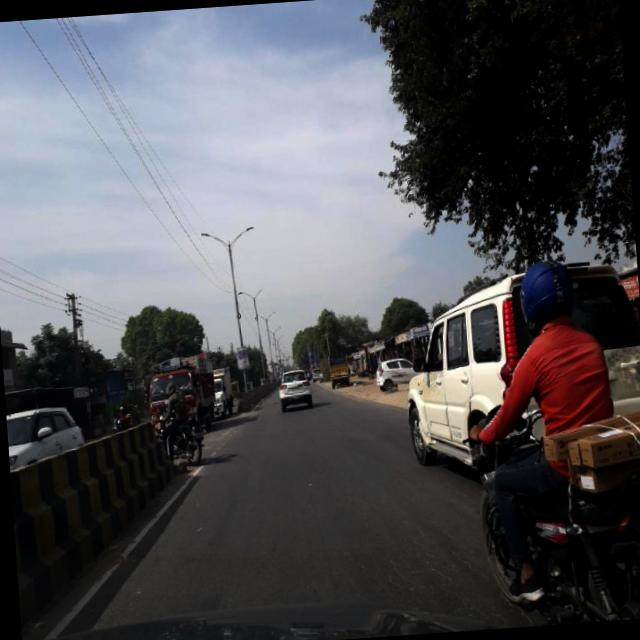crack: (380, 520, 477, 594)
